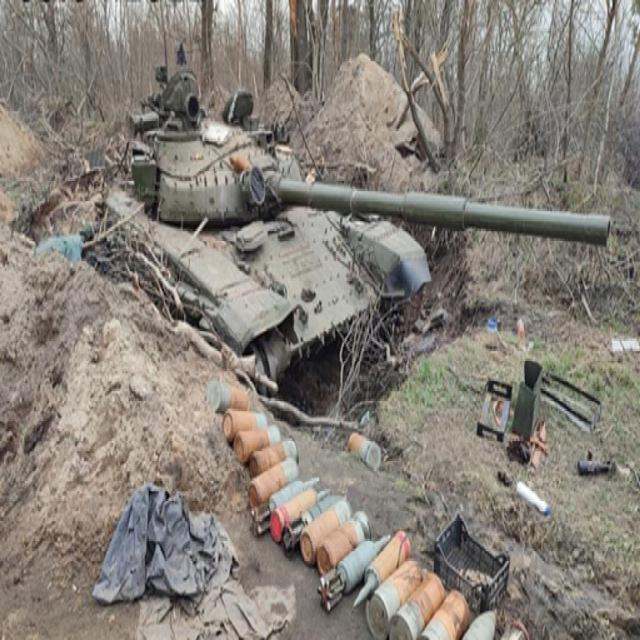TANK: (90, 60, 612, 404)
